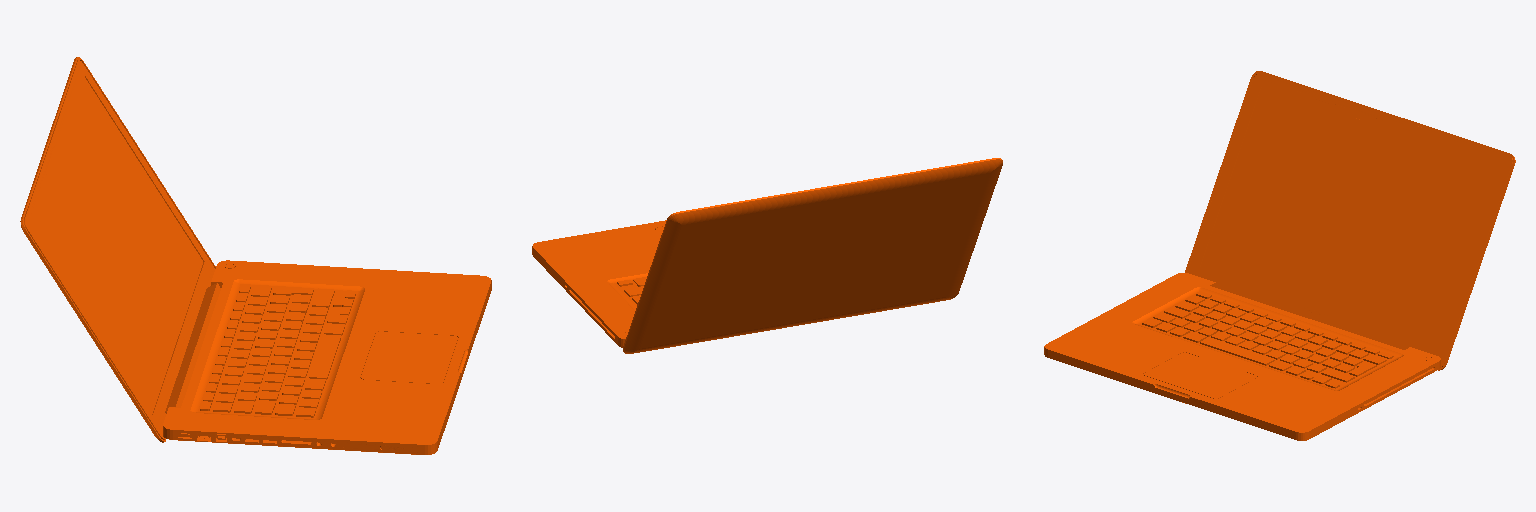
The robot description file, URDF, robot "Laptop_2b1c384f0ff46e52e1ee9a223d7d5c9c":
<?xml version="1.0" ?>
<robot name="Laptop_2b1c384f0ff46e52e1ee9a223d7d5c9c">
   <material name="obj_color">
      <color rgba="1.0 0.423529411765 0.0392156862745 1.0"/>
   </material>
   <link name="top">
      <inertial>
         <origin rpy="0.001366131959399175 0.001663760110145229 0.002760905088942049" xyz="0.009719035509890967 -0.007368190496494455 0.003268861671948555"/>
         <mass value="0.7995958761666597"/>
         <inertia ixx="0.001692011872895966" ixy="-0.0002553812899439" ixz="0.0003504839524794048" iyy="0.001566265888989098" iyz="-0.0002749058285635442" izz="0.002532519396601389"/>
      </inertial>
      <visual>
         <origin rpy="0 0 0" xyz="0 0 0"/>
         <geometry>
            <mesh filename="top_watertight_tiny.stl" scale="1 1 1"/>
         </geometry>
         <material name="obj_color"/>
      </visual>
      <collision>
         <origin rpy="0 0 0" xyz="0 0 0"/>
         <geometry>
            <mesh filename="top_watertight_tiny.obj" scale="1 1 1"/>
         </geometry>
      </collision>
   </link>
   <link name="bottom">
      <inertial>
         <origin rpy="1.633333333199431e-08 1.633333333199431e-08 1.633333333362855e-08" xyz="0.3464080000000008 0.3464080000000008 0.3464080000000008"/>
         <mass value="0.0009800000000000017"/>
         <inertia ixx="1.633333333253906e-08" ixy="5.447480642029219e-19" ixz="5.447480642029219e-19" iyy="1.633333333253906e-08" iyz="5.447480642029219e-19" izz="1.633333333253906e-08"/>
      </inertial>
      <visual>
         <origin rpy="0 0 0" xyz="0 0 0"/>
         <geometry>
            <mesh filename="bottom_watertight_tiny.stl" scale="1 1 1"/>
         </geometry>
         <material name="obj_color"/>
      </visual>
   </link>
   <joint name="rotation" type="revolute">
      <origin xyz="0 0 0"/>
      <axis xyz="0 0 -1"/>
      <parent link="bottom"/>
      <child link="top"/>
      <dynamics damping="1.0" friction="1.0"/>
      <limit effort="0.1" velocity="0.1" lower="0" upper="0.001"/>
   </joint>
</robot>

--- Render facts (derived) ---
The picture shows the robot from 3 angles, left to right: view 1: azimuth 30°, elevation 25°; view 2: azimuth 150°, elevation 25°; view 3: azimuth 270°, elevation 25°; orthographic projection.
Model Laptop_2b1c384f0ff46e52e1ee9a223d7d5c9c with 2 links and 1 joints (1 revolute), rooted at bottom, posed all joints at 0.
Visible links, largest first — view 1: top; view 2: top; view 3: top.
Link boxes in pixels (left/top/right/bottom): top: left=20, top=57, right=491, bottom=454; top: left=532, top=158, right=1002, bottom=353; top: left=1044, top=71, right=1515, bottom=440.
Bounding box of the posed robot: 0.2152 × 0.2143 × 0.0892 m (x, y, z).
Meshes: 2 distinct files referenced, 1 mesh visuals loaded (1 binary STL); not drawn: 1 (reference not matched to a file when rendering).
